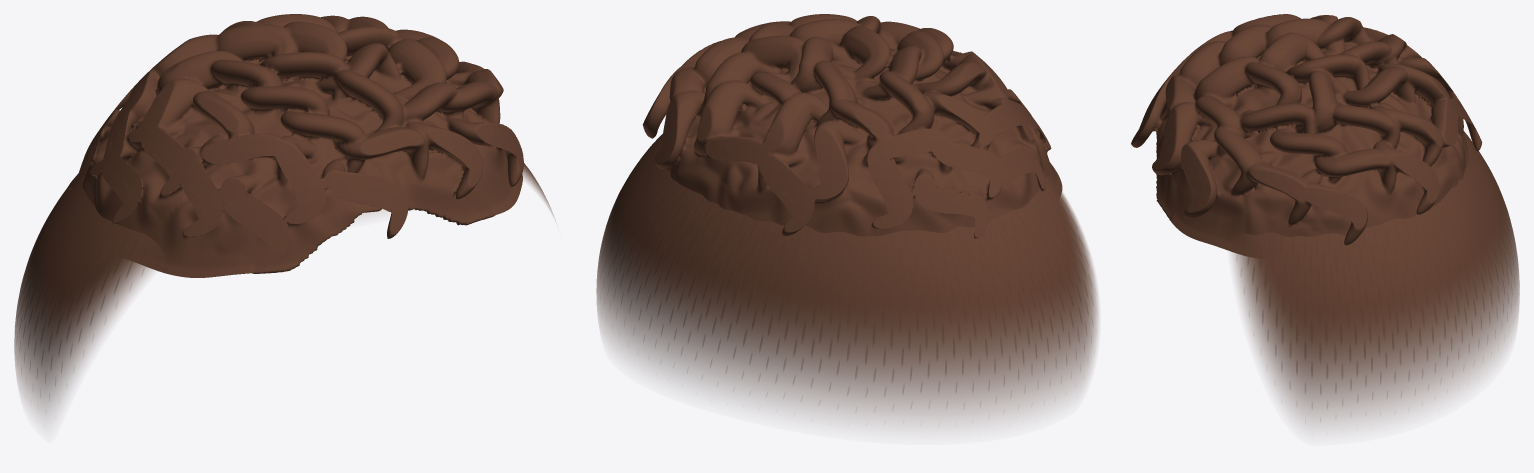
File: Masculine-curly-top-beanie258-hair.glb
The picture shows the model from 3 angles, left to right: view 1: azimuth 30°, elevation 25°; view 2: azimuth 150°, elevation 25°; view 3: azimuth 270°, elevation 25°; orthographic projection. The views are drawn at different scales.
Visible parts, largest first — view 1: 226 hair / Hair252 / sculpted curl groups, 226 hair / Hair258 / smooth side fade, 226 hair / Hair258 / directional fade marks; view 2: 226 hair / Hair258 / smooth side fade, 226 hair / Hair252 / sculpted curl groups, 226 hair / Hair258 / directional fade marks; view 3: 226 hair / Hair252 / sculpted curl groups, 226 hair / Hair258 / smooth side fade, 226 hair / Hair258 / directional fade marks.
Part boxes in pixels (x1,y1,x2,y2): 226 hair / Hair252 / sculpted curl groups: [67, 14, 523, 277]; 226 hair / Hair258 / smooth side fade: [14, 163, 555, 419]; 226 hair / Hair258 / directional fade marks: [15, 180, 159, 385]; 226 hair / Hair258 / smooth side fade: [596, 134, 1098, 424]; 226 hair / Hair252 / sculpted curl groups: [642, 14, 1062, 238]; 226 hair / Hair258 / directional fade marks: [608, 135, 1092, 395]; 226 hair / Hair252 / sculpted curl groups: [1131, 14, 1482, 256]; 226 hair / Hair258 / smooth side fade: [1230, 131, 1519, 426]; 226 hair / Hair258 / directional fade marks: [1235, 138, 1514, 407].
Bounding box in the file's own units: 0.9705 × 0.665 × 0.7425.
